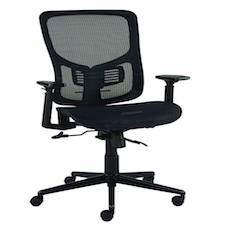chair: (9, 4, 192, 220)
